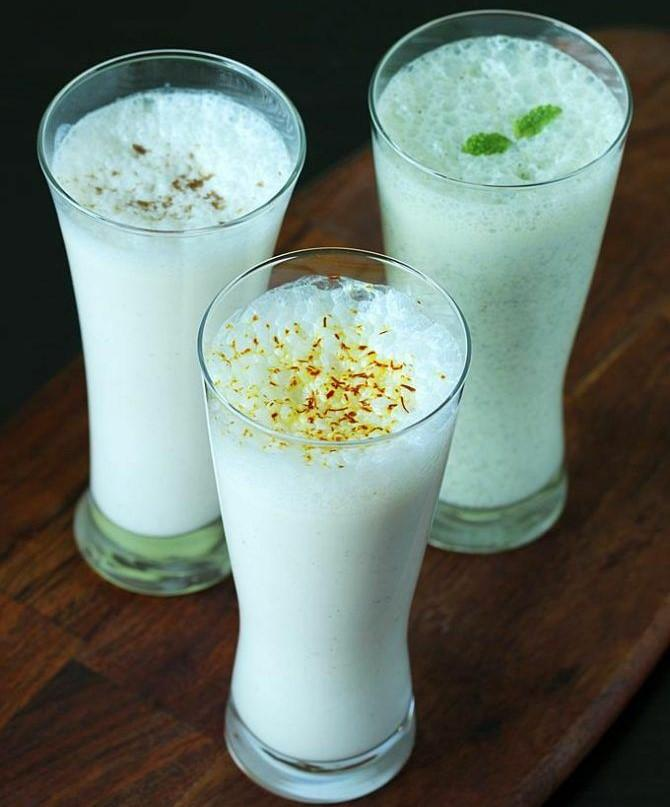Lassi: (202, 277, 461, 760), (371, 36, 627, 506), (51, 90, 294, 534)
